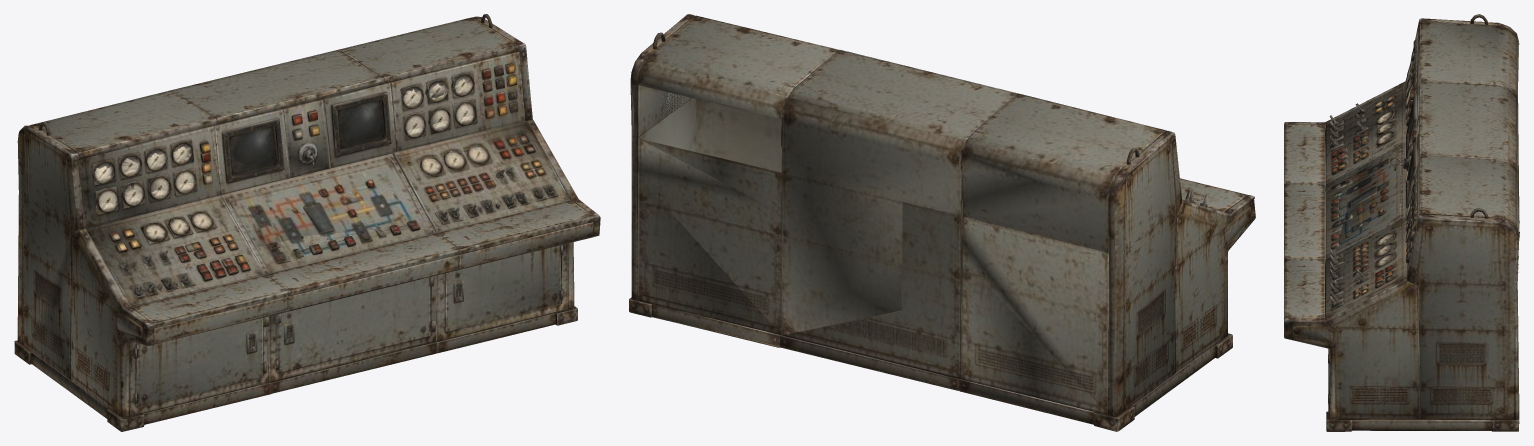
File: reactor-control-console.glb
The picture shows the model from 3 angles, left to right: view 1: azimuth 30°, elevation 25°; view 2: azimuth 150°, elevation 25°; view 3: azimuth 270°, elevation 25°; orthographic projection. The views are drawn at different scales.
Visible parts, largest first — view 1: reactor-control-console; view 2: reactor-control-console; view 3: reactor-control-console.
Boxes of the visible parts, bbox=[...] form: reactor-control-console: bbox=[14, 14, 600, 431]; reactor-control-console: bbox=[629, 14, 1255, 431]; reactor-control-console: bbox=[1284, 14, 1519, 431].
Bounding box in the file's own units: 3 × 1.54 × 1.49.
Materials: 1 (1 with a texture image).
